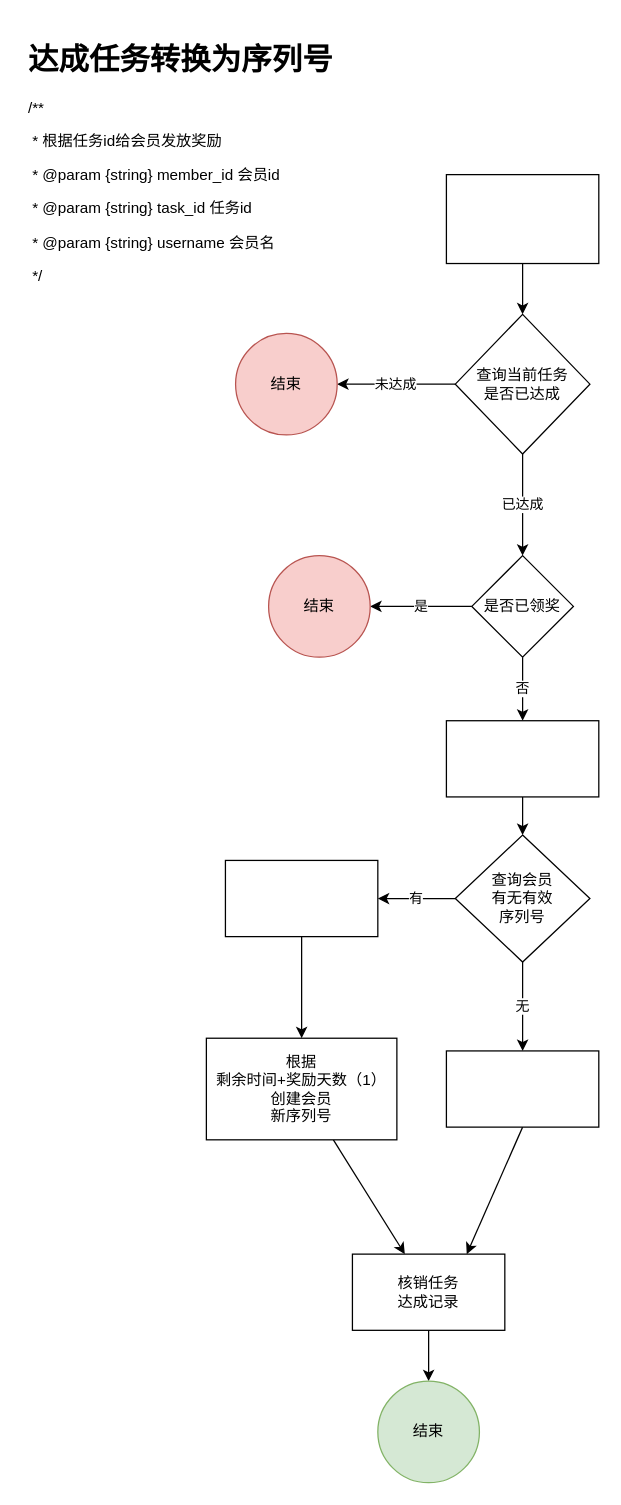
Image size: 621x1505. Some labels were removed from this diagram. The shapes that lost their labels are listed below. From the top down, each one's centre as x and y in pixels, then its label:
[522,218]: （必填参数） member_id task_id username
[522,758]: 获取任务信息 获取奖励天数（1）
[301,898]: 获取序列号 剩余时间
[522,1088]: 根据奖励天数（1） 创建会员 新序列号
